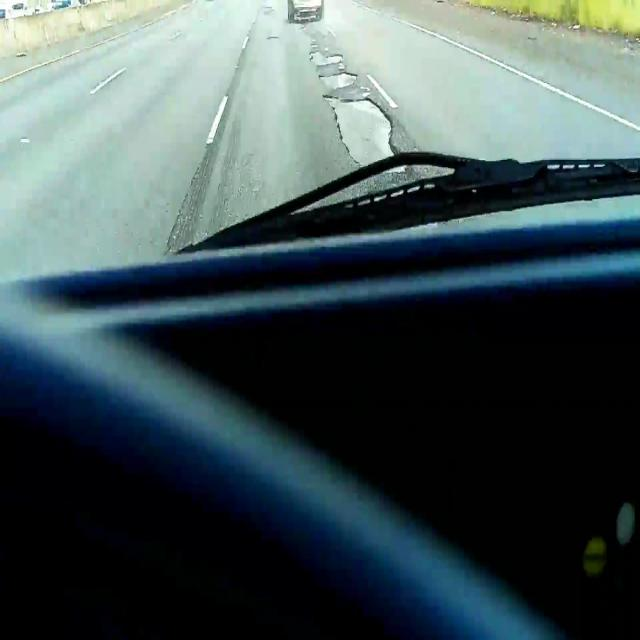Pothole: (321, 92, 408, 176), (319, 72, 358, 91), (309, 51, 344, 67), (267, 36, 279, 40), (262, 6, 273, 9)
